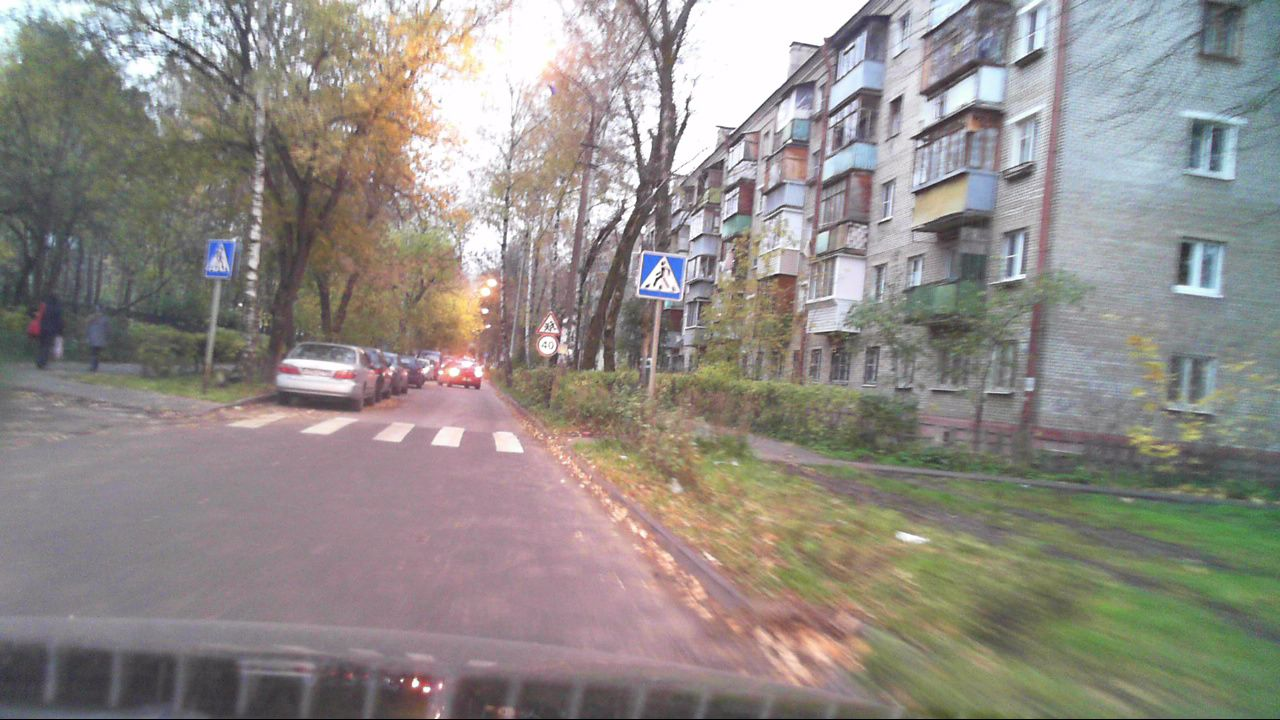speed_warning_40: (537, 336, 558, 355)
